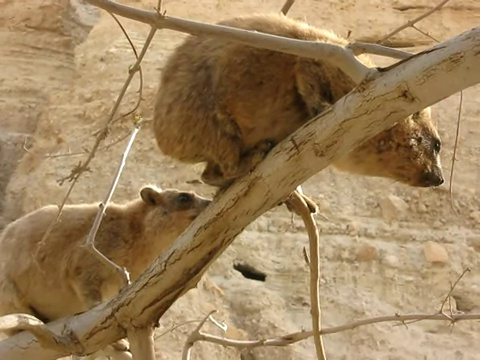Rock Hyrex: (156, 12, 445, 190), (3, 184, 214, 325)
